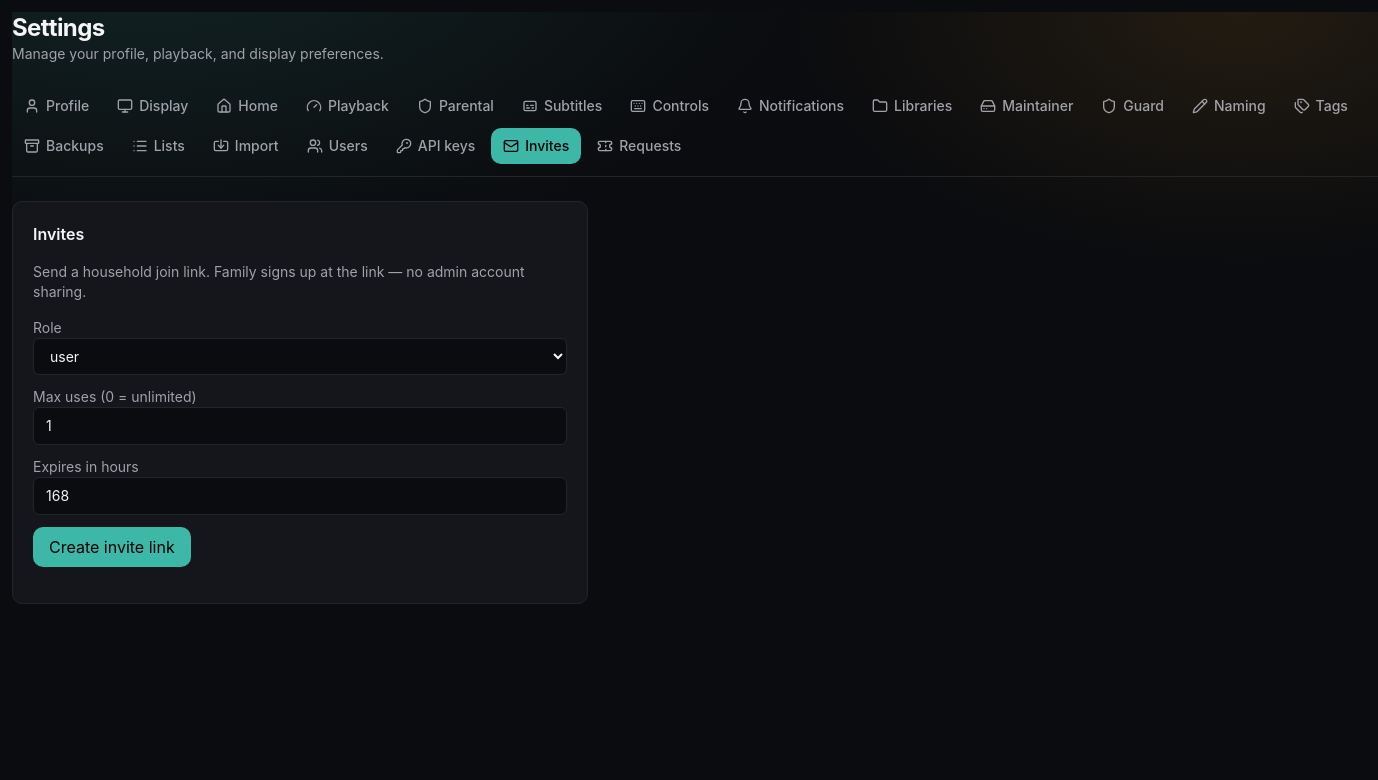
Test case: Settings page › creates a household invite link
Expected: the element with test id "settings-invites" is shown, x1=12 y1=201 x2=588 y2=604
Select "viewer" in the dropdown named "Invite role" at (300, 356), box x1=33 y1=338 x2=567 y2=375
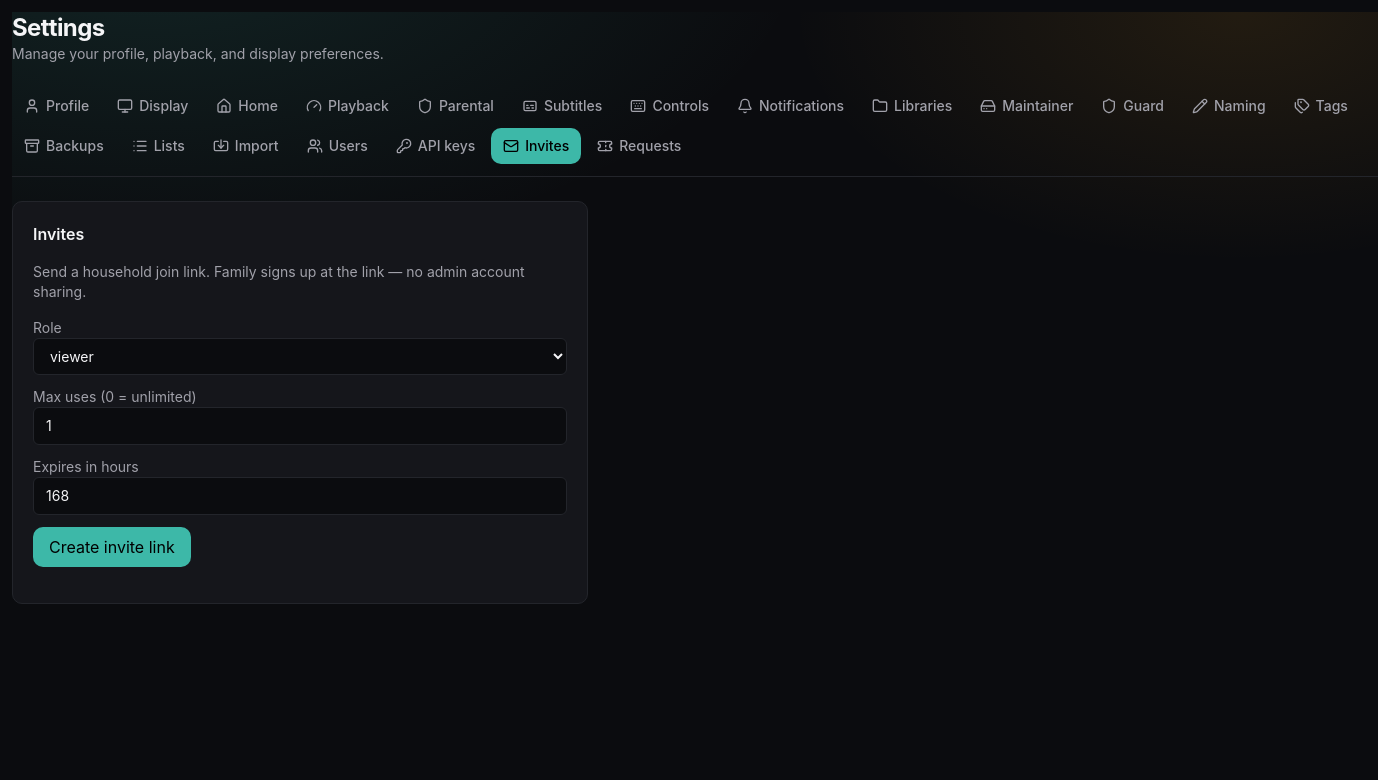
Click the button "Create invite link" at (112, 547), box x1=33 y1=527 x2=191 y2=567
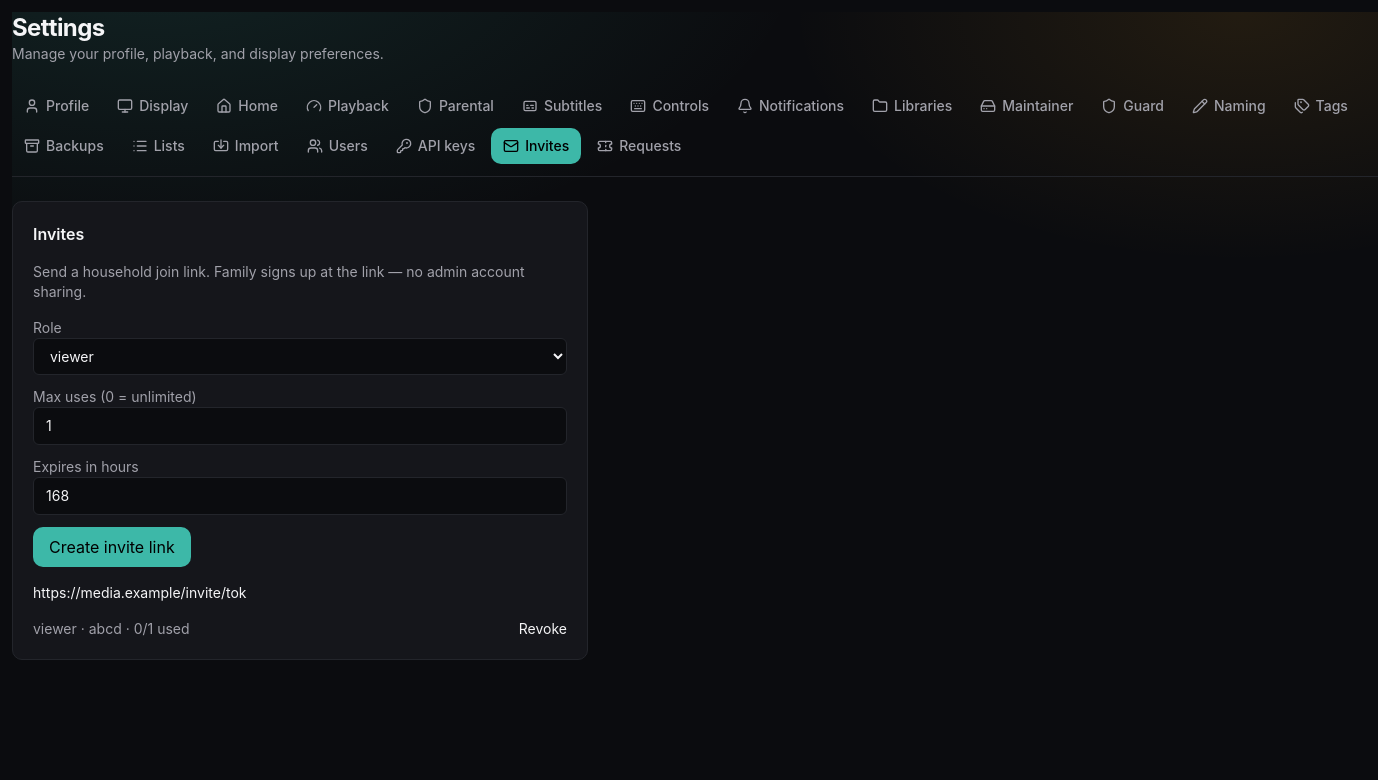
Expected: the text with test id "invite-created-url" reads "https://media.example/invite/tok", x1=33 y1=584 x2=246 y2=601
